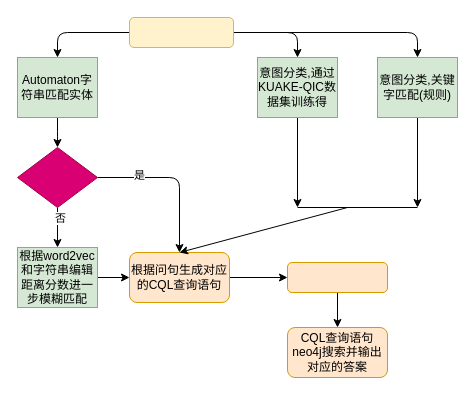
The diagram is 475 pixels wide and 395 high, and some of its shapes have lost their labels. Here are the shapes that lost their labels. From the top down, the centre of each, then its label:
At point (181, 32): "问句分类".
At point (57, 177): "是否匹配?".
At point (337, 277): "创建图数据库".
